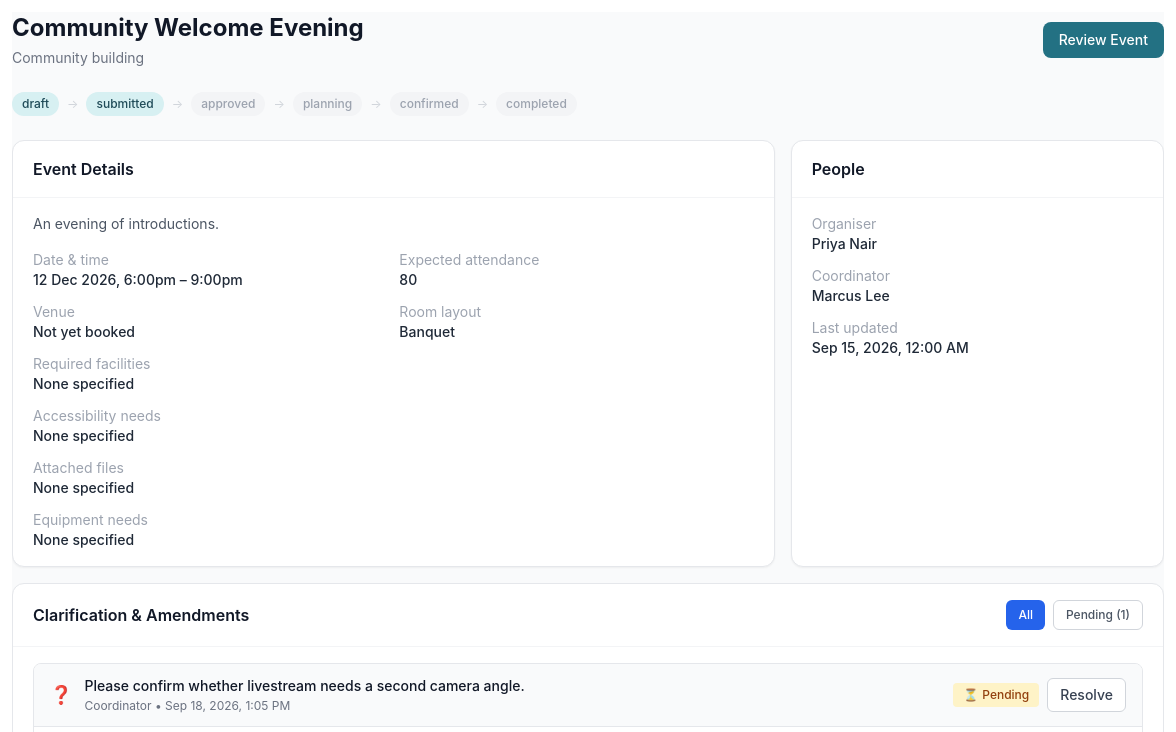
Test case: EventDetailPage clarification thread › both organiser and coordinator can resolve a clarification, which hides the reply button and marks it Answered
Expected: the text "Pending" is shown, [982, 687, 1029, 702]
Click the button "Resolve".
click(1087, 695)  # box [1047, 678, 1126, 712]
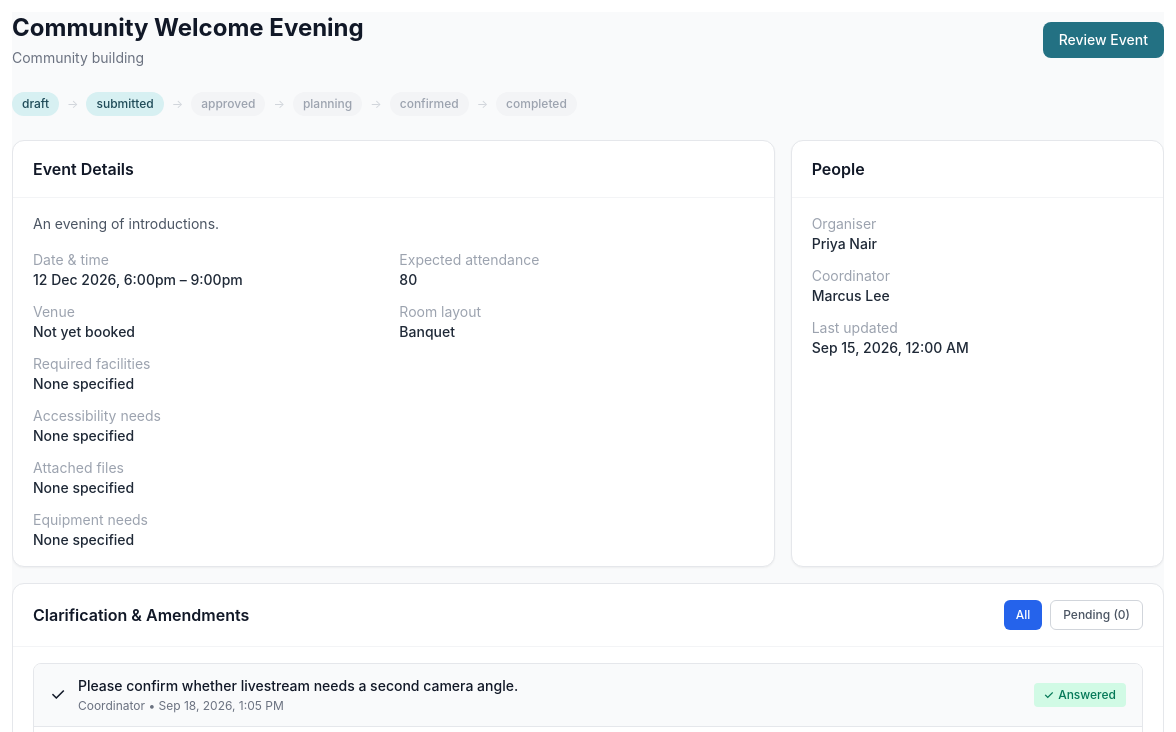
Now the text "Answered" is shown, box [1058, 687, 1116, 702]
Now the button "Resolve" is gone
